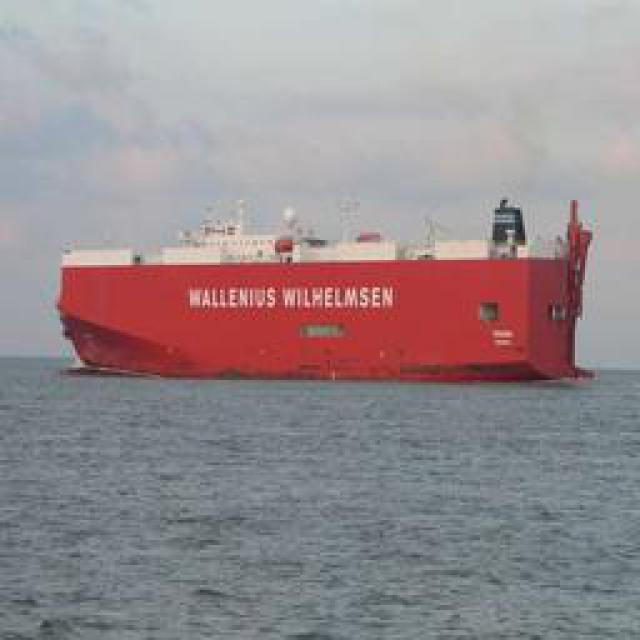Ship: (56, 188, 611, 383)
